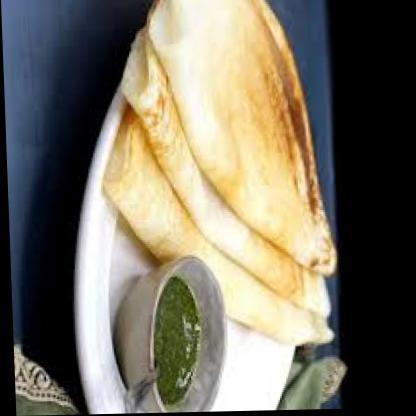dosa: (119, 22, 328, 322), (99, 102, 330, 350), (149, 0, 335, 278)
